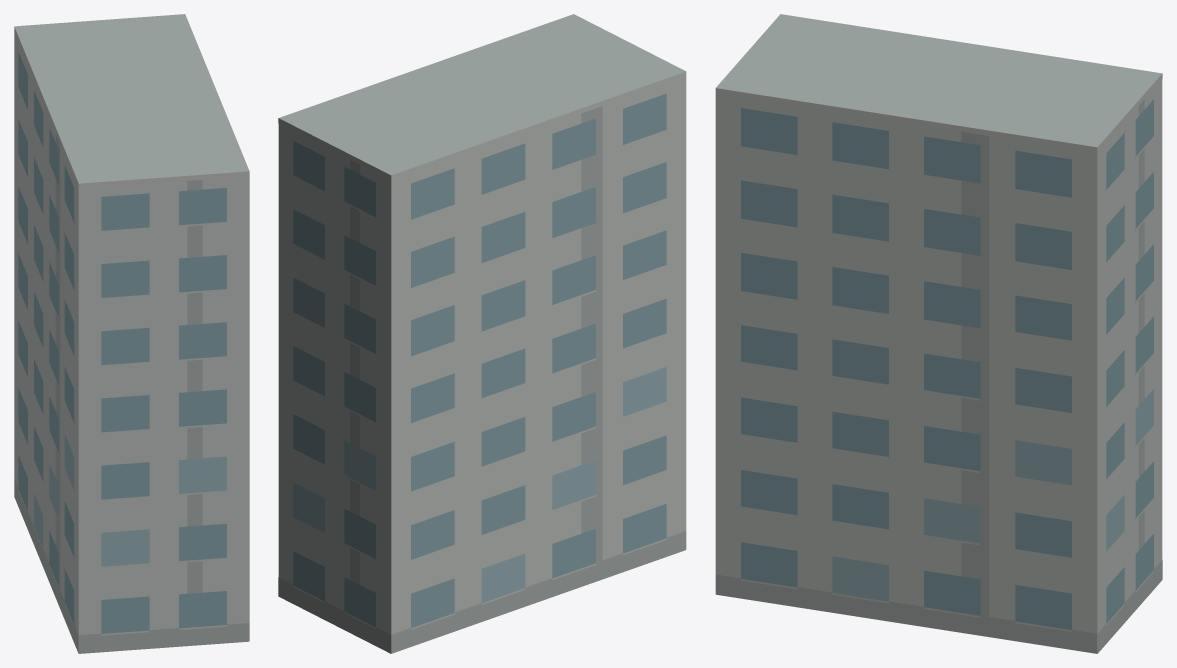
Rendered from survey-upis-32878388.glb.
3 renders of one model, left to right at view 1: azimuth 30°, elevation 25°; view 2: azimuth 150°, elevation 25°; view 3: azimuth 270°, elevation 25°, orthographic. The views are drawn at different scales.
Parts seen in each view (by area): view 1: survey-upis-32878388.tmp; view 2: survey-upis-32878388.tmp; view 3: survey-upis-32878388.tmp.
Part boxes in pixels (<box>): survey-upis-32878388.tmp: <box>14,14,249,653</box>; survey-upis-32878388.tmp: <box>278,14,686,653</box>; survey-upis-32878388.tmp: <box>715,14,1162,653</box>.
Size of the model in its own units: 12.77 by 22.6 by 18.08.
